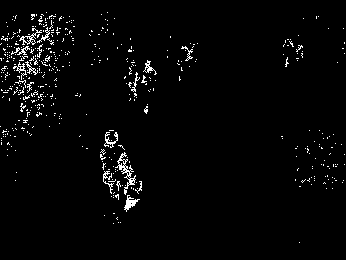person: (100, 129, 143, 215), (140, 60, 158, 112)
